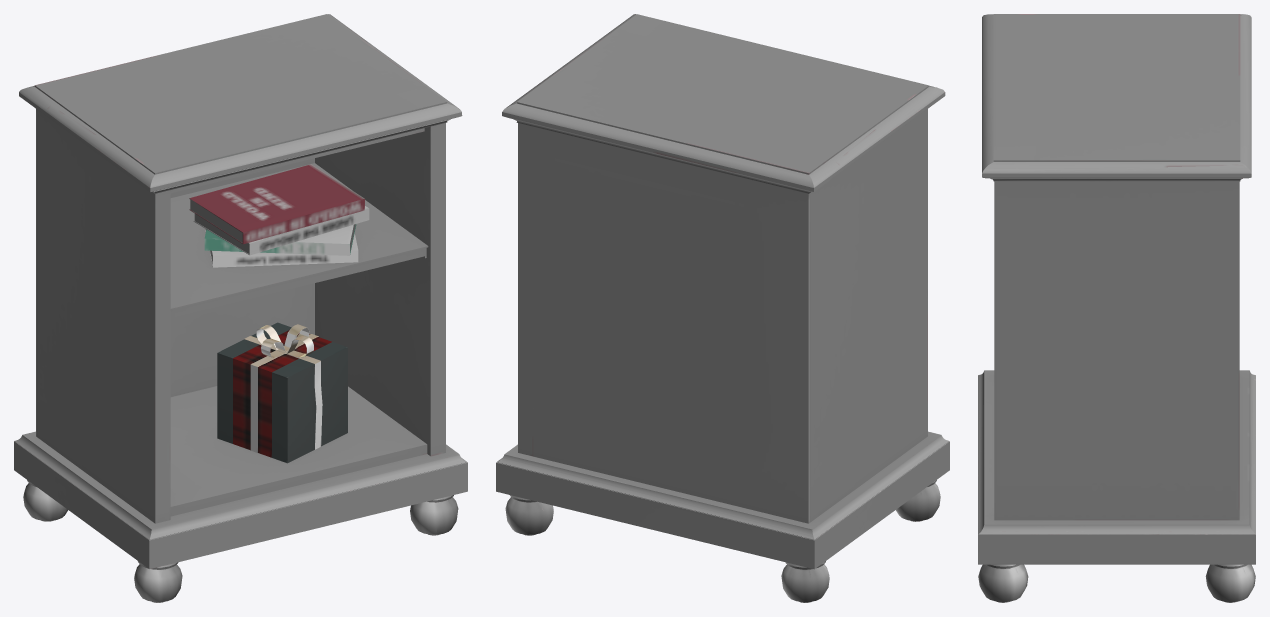
Rendered from raw_model.obj.
3 renders of one model, left to right at view 1: azimuth 30°, elevation 25°; view 2: azimuth 150°, elevation 25°; view 3: azimuth 270°, elevation 25°, orthographic. The views are drawn at different scales.
Parts seen in each view (by area): view 1: solid_002, solid_008, solid_003, solid_009, solid_001, solid_006, solid_007, solid_005, solid_004; view 2: solid_002; view 3: solid_002.
Boxes of the visible parts, x1=… form: solid_002: x1=14, y1=14, x2=467, y2=602; solid_008: x1=217, y1=322, x2=347, y2=463; solid_003: x1=189, y1=164, x2=364, y2=244; solid_009: x1=233, y1=330, x2=331, y2=457; solid_001: x1=244, y1=324, x2=322, y2=452; solid_006: x1=204, y1=224, x2=356, y2=255; solid_007: x1=205, y1=229, x2=358, y2=267; solid_005: x1=193, y1=206, x2=369, y2=255; solid_004: x1=190, y1=199, x2=355, y2=263; solid_002: x1=496, y1=14, x2=949, y2=602; solid_002: x1=978, y1=14, x2=1255, y2=602.
Bounding box in the file's own units: 0.52 × 0.673 × 0.3827.
Materials: 1 (1 with a texture image).
